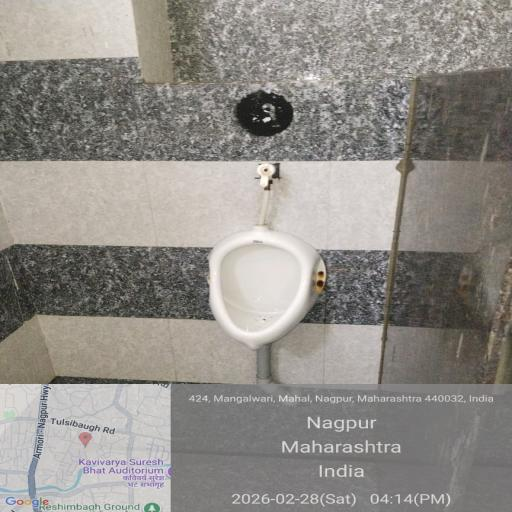clean_floor: (0, 27, 210, 380), (231, 24, 442, 236), (336, 244, 498, 382)
clean_urinal: (211, 229, 297, 346)
